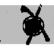not correct: (17, 4, 52, 48)
